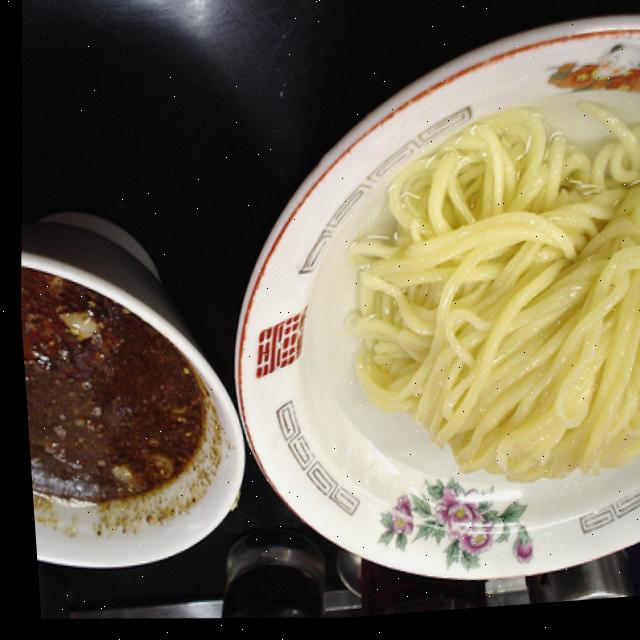面条主食: (5, 49, 640, 615)
